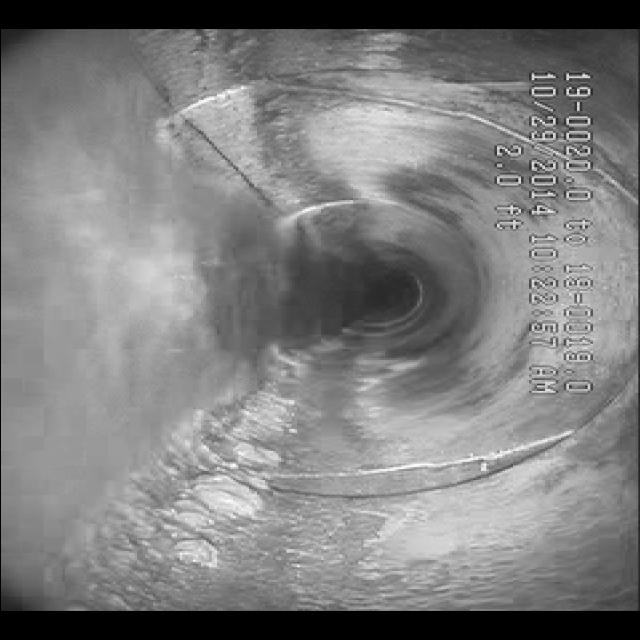Crack: (202, 429, 574, 499), (276, 86, 500, 134)
